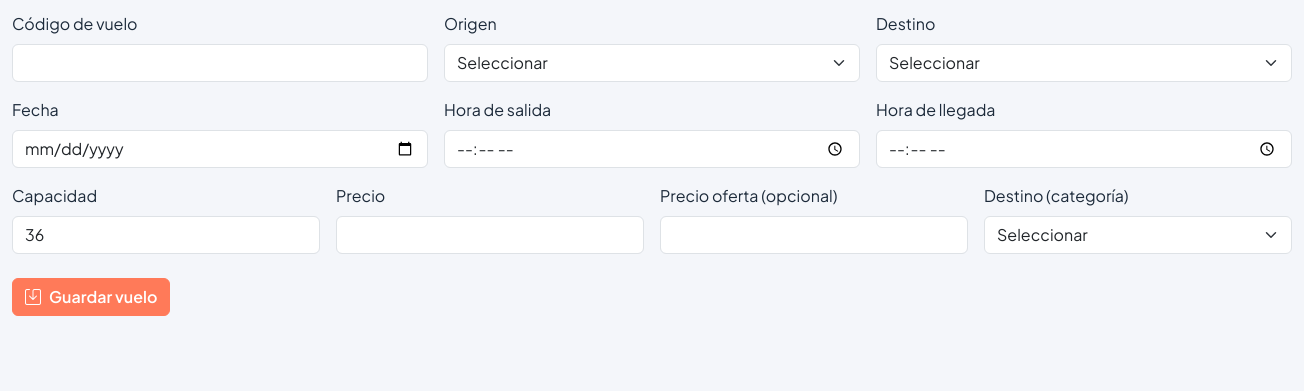
Scenario: FormularioVuelo › muestra un error si el código tiene menos de 3 caracteres
Type "F1" into the field labelled "Código de vuelo" at (220, 63), box [12,44,428,82]
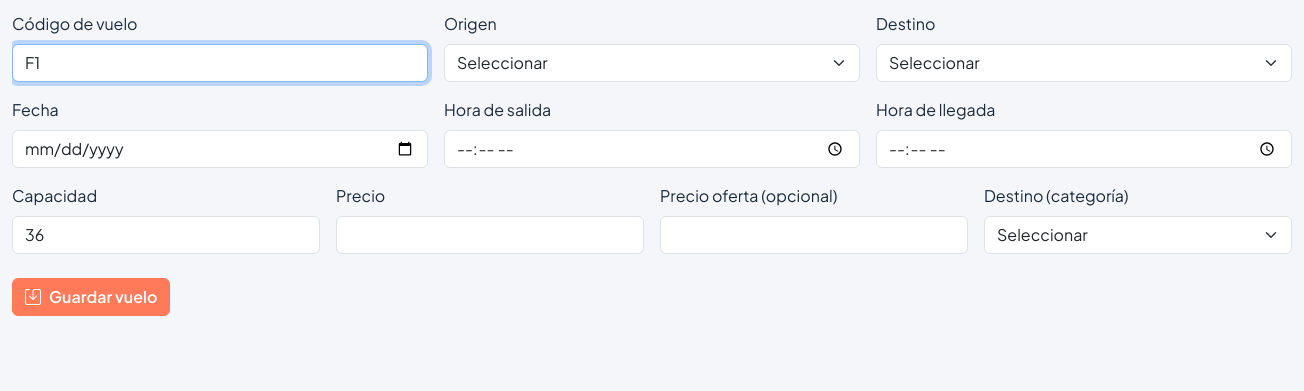
Click the button "Guardar vuelo" at (91, 297), box [12,278,170,316]
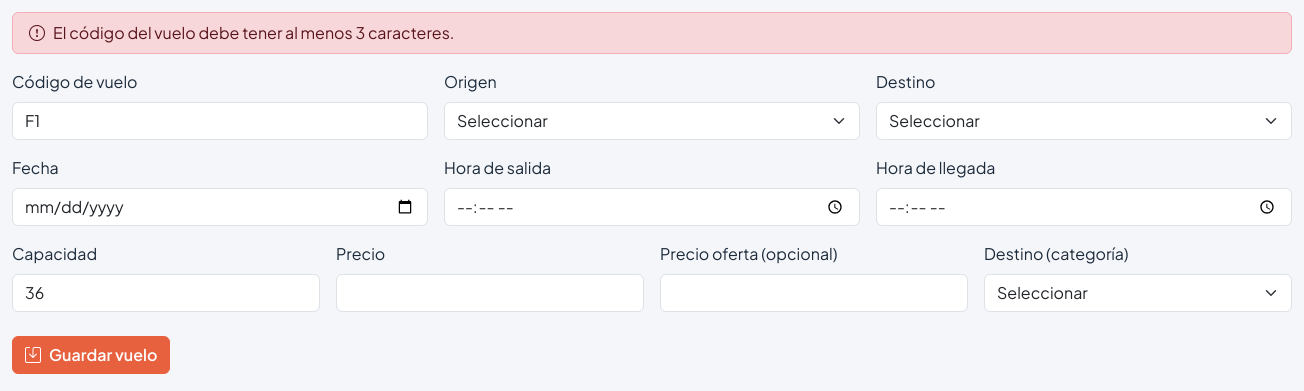
Result: the message shows "al menos 3 caracteres" at [53,22,454,43]
